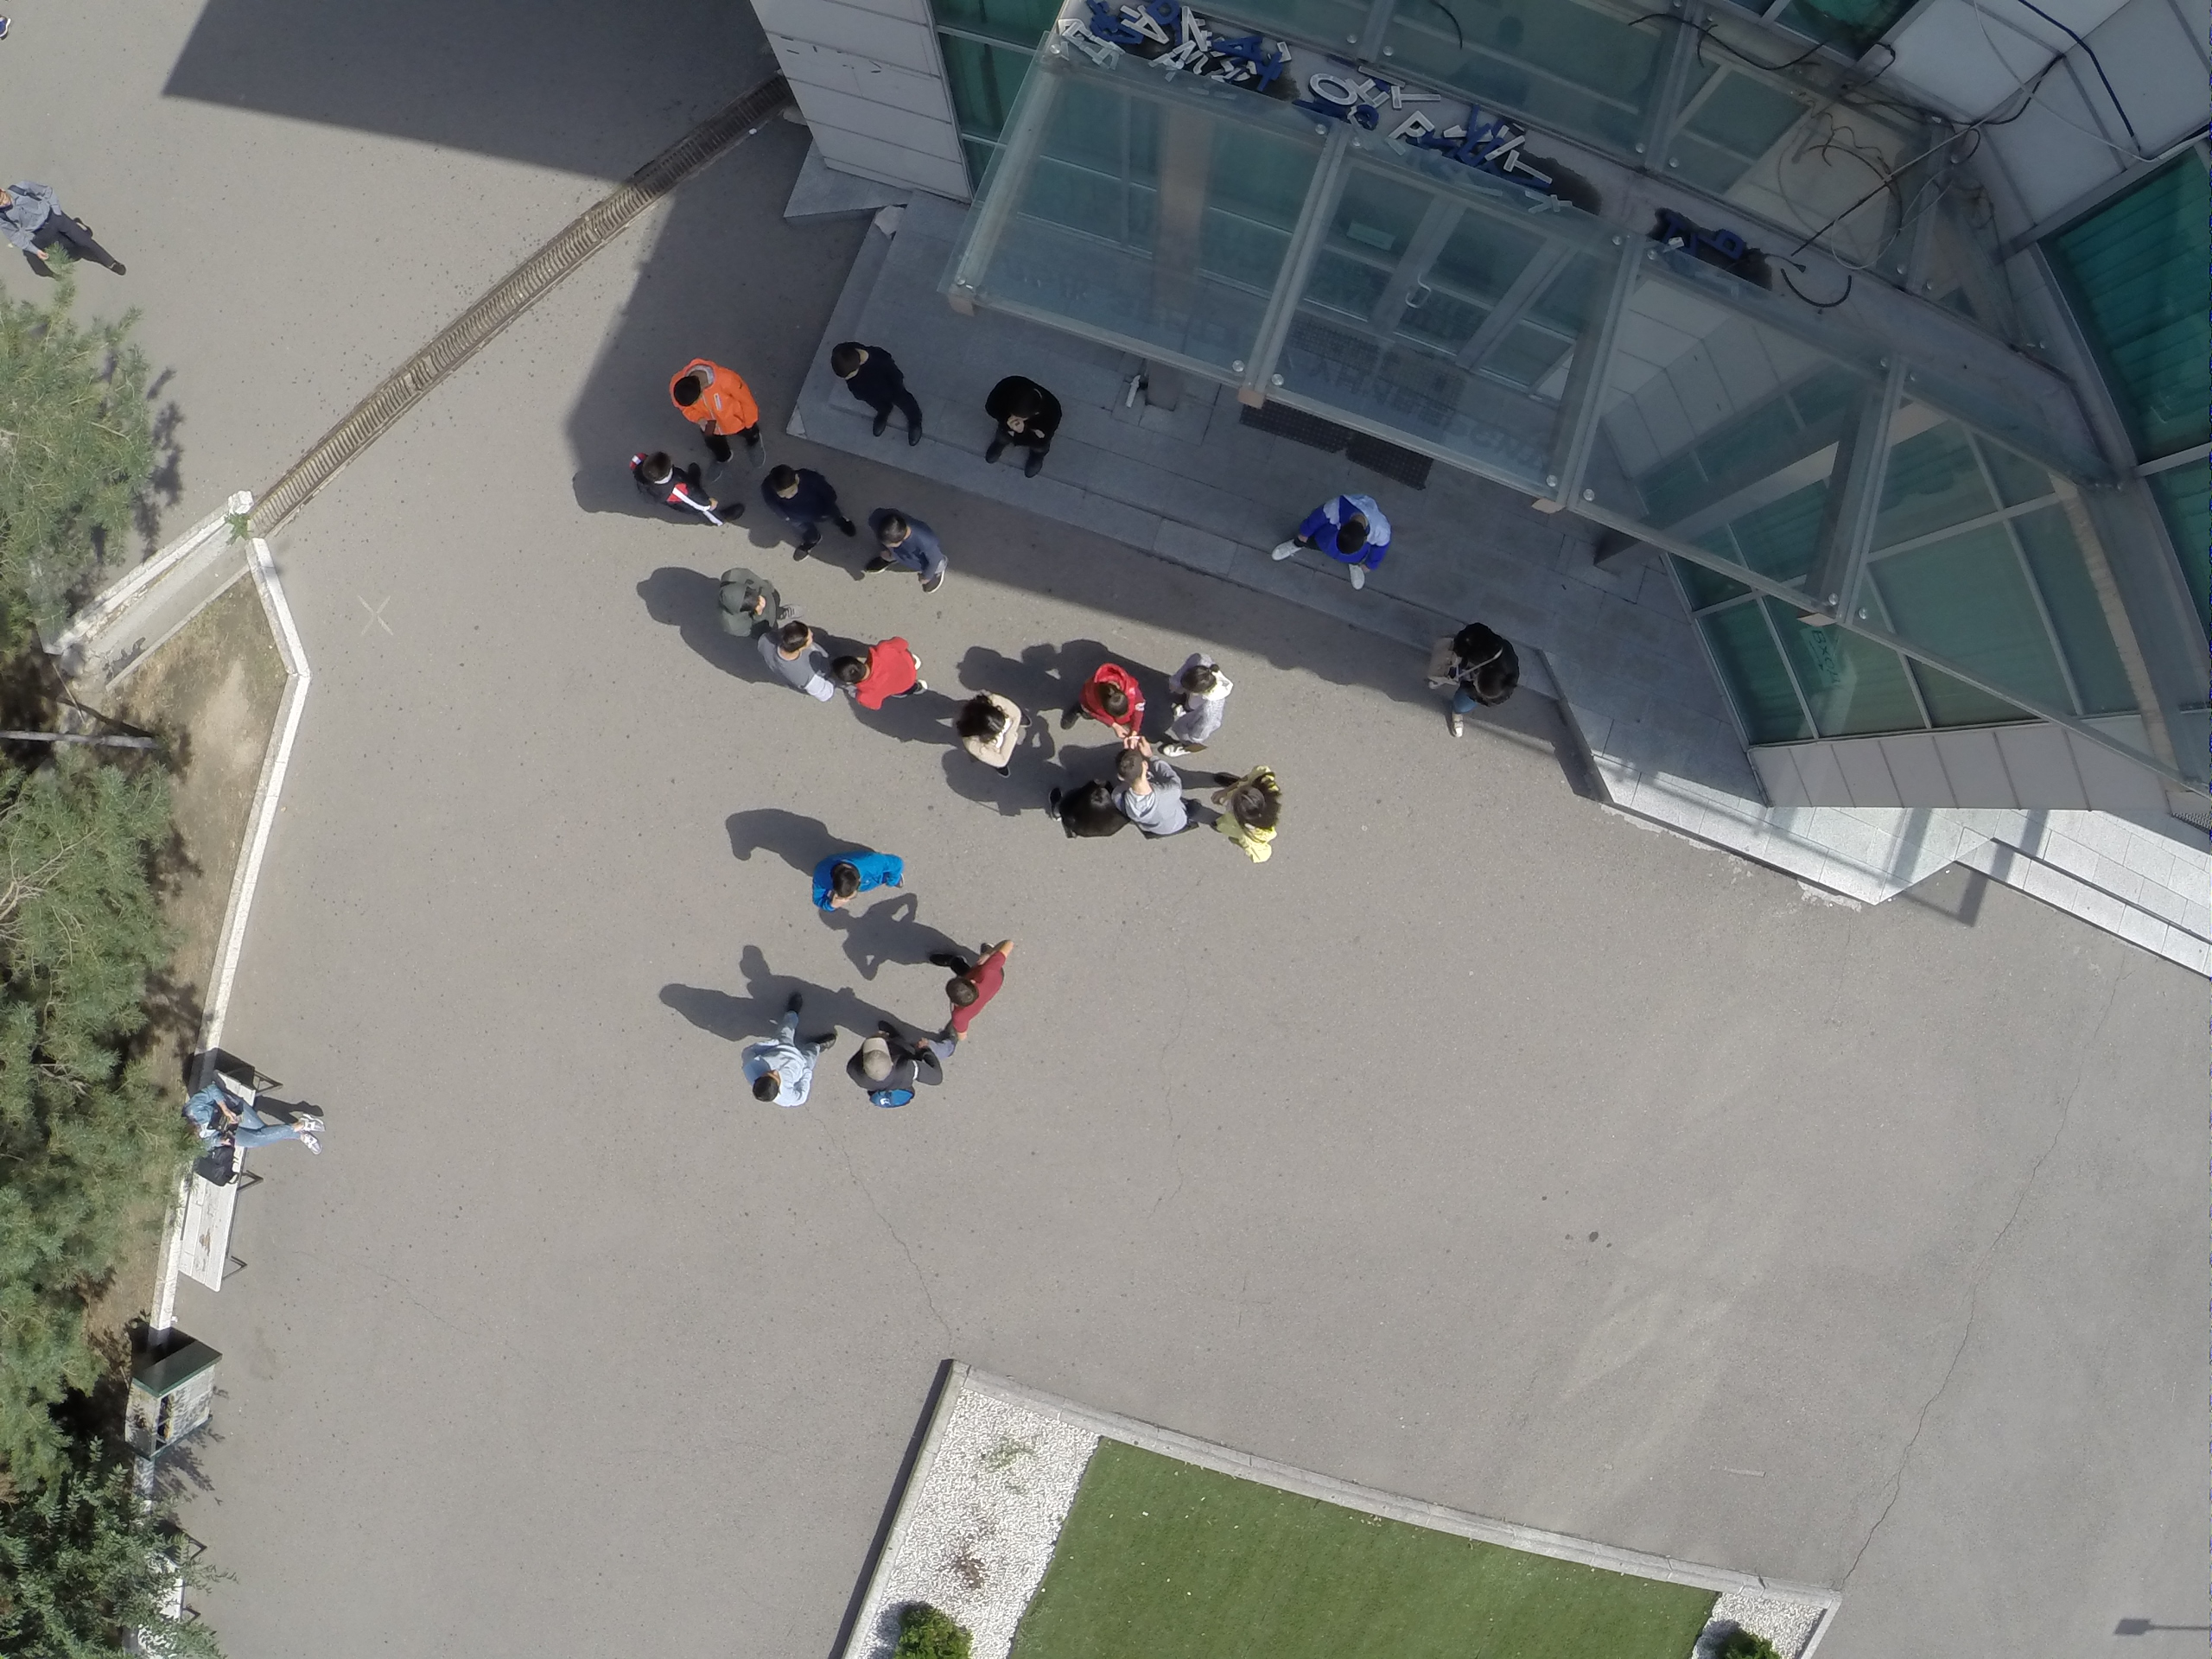person: (731, 989, 840, 1117), (1272, 486, 1390, 594), (1, 181, 124, 279), (664, 353, 765, 469), (1424, 619, 1520, 740), (629, 444, 747, 537), (182, 1085, 327, 1160), (759, 461, 859, 569), (830, 340, 926, 450), (933, 927, 1020, 1049), (984, 369, 1065, 480), (851, 1023, 945, 1116), (1110, 741, 1202, 837), (1157, 647, 1236, 758), (802, 833, 902, 918), (1058, 660, 1154, 748), (1197, 764, 1281, 861), (869, 503, 952, 602), (834, 631, 930, 715), (949, 687, 1032, 782), (759, 617, 842, 708), (714, 563, 783, 652), (1052, 775, 1127, 854)
